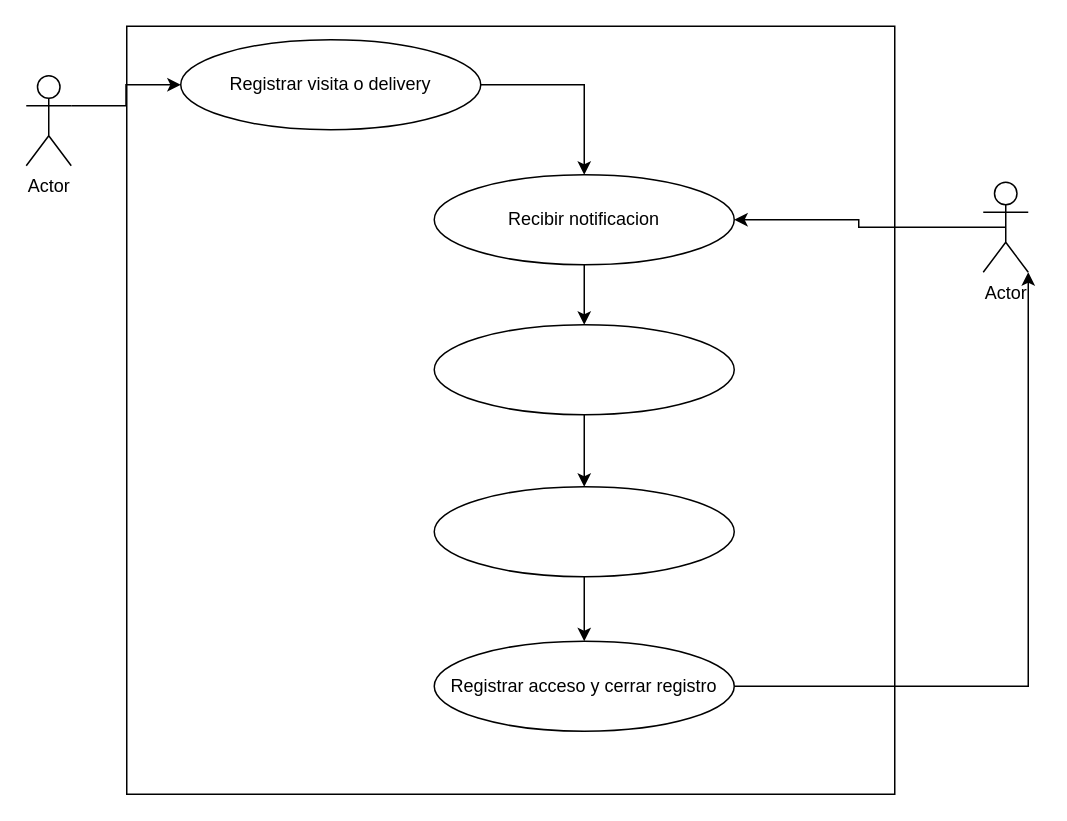
This 1067x821 diagram has some shape labels left out. The centre of each missing label's shape, as x and y in pixels:
"Conceder acceso" goes at (583,531).
"Verificar datos de visita o delivery" goes at (583,369).
